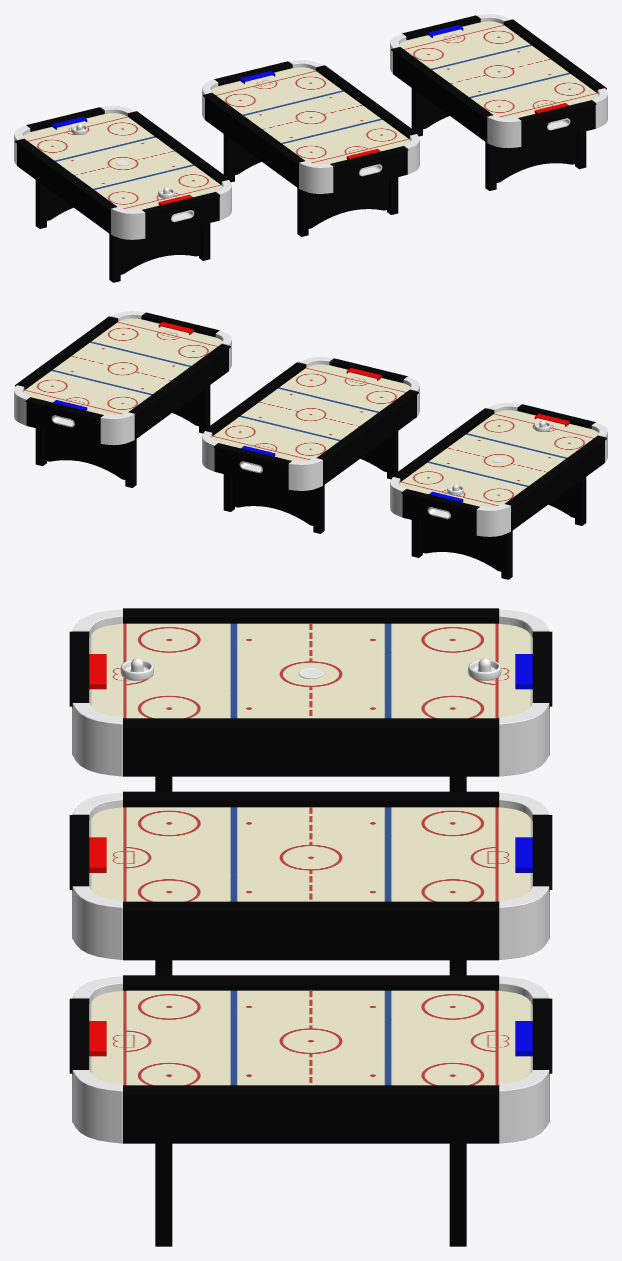
Rendered from AirHockeyTable.fbx.
3 views of the same model, one above another, from view 1: azimuth 30°, elevation 25°; view 2: azimuth 150°, elevation 25°; view 3: azimuth 270°, elevation 25° (orthographic). The views are drawn at different scales.
Visible parts, largest first — view 1: AirHockeyTable03, AirHockeyTable02, AirHockeyTable01; view 2: AirHockeyTable03, AirHockeyTable02, AirHockeyTable01; view 3: AirHockeyTable03, AirHockeyTable02, AirHockeyTable01.
Part boxes in pixels (box(x1,y1,x2,y2)): AirHockeyTable03: box(390, 14, 607, 190); AirHockeyTable02: box(202, 60, 419, 236); AirHockeyTable01: box(14, 106, 231, 282); AirHockeyTable03: box(14, 311, 231, 487); AirHockeyTable02: box(202, 357, 419, 533); AirHockeyTable01: box(390, 403, 607, 579); AirHockeyTable03: box(69, 975, 552, 1246); AirHockeyTable02: box(69, 791, 552, 975); AirHockeyTable01: box(69, 608, 552, 791).
Bounding box in the file's own units: 530 × 88.32 × 222.
